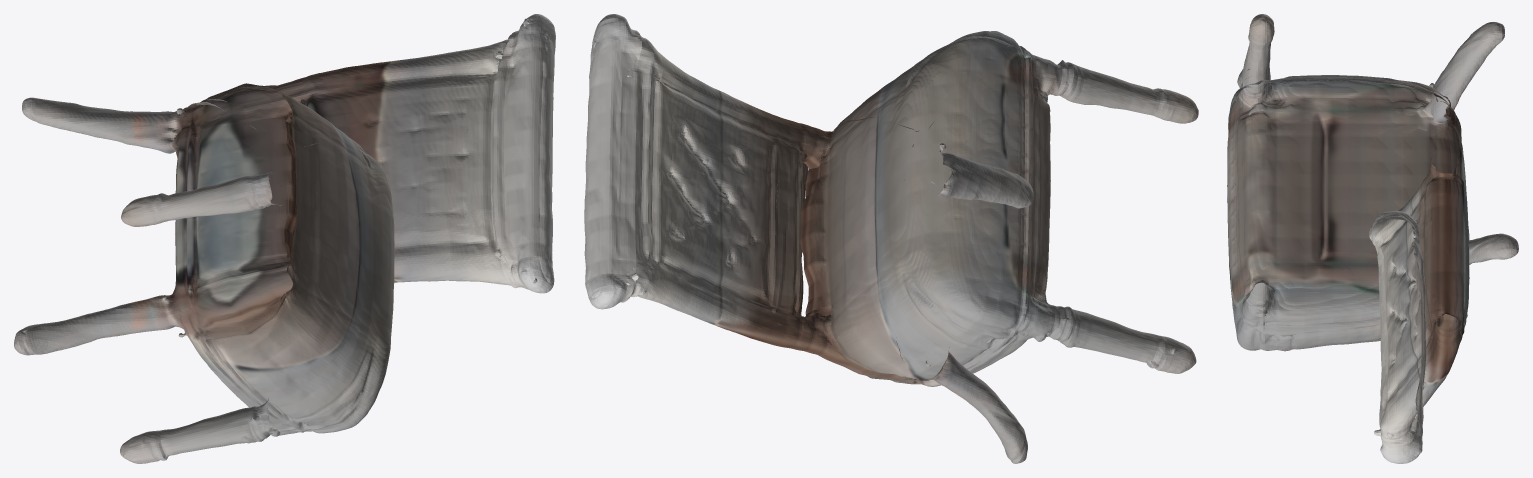
Rendered from chair_ultra_highres.glb.
3 renders of one model, left to right at view 1: azimuth 30°, elevation 25°; view 2: azimuth 150°, elevation 25°; view 3: azimuth 270°, elevation 25°, orthographic. The views are drawn at different scales.
Parts seen in each view (by area): view 1: world; view 2: world; view 3: world.
Part boxes in pixels (x1,y1,x2,y2): world: (14,14,555,463); world: (584,14,1198,463); world: (1227,14,1518,463).
Size of the model in its own units: 1.02 by 0.5543 by 0.5616.
